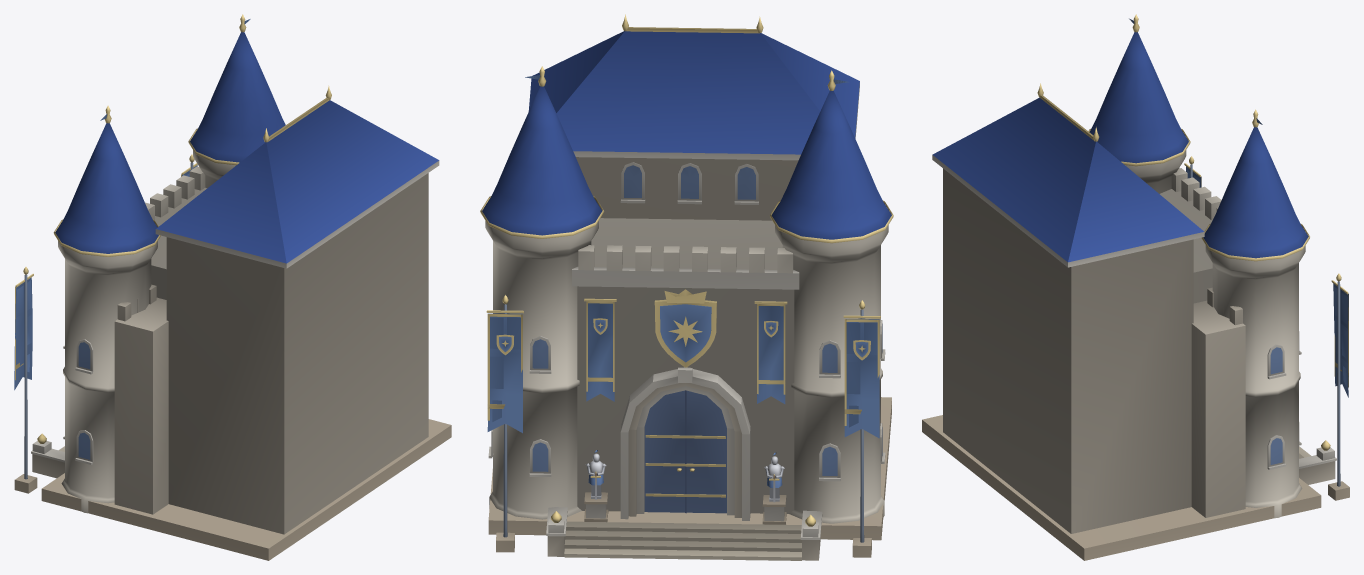
The model's file is knight_lite.glb.
The picture shows the model from 3 angles, left to right: view 1: azimuth 30°, elevation 25°; view 2: azimuth 150°, elevation 25°; view 3: azimuth 270°, elevation 25°; orthographic projection. The views are drawn at different scales.
Visible parts, largest first — view 1: Knight_stone, Knight_roof, Knight_props; view 2: Knight_stone, Knight_roof, Knight_props; view 3: Knight_stone, Knight_roof, Knight_props.
Boxes of the visible parts, left/top/right/bottom form: Knight_stone: left=14, top=150, right=451, bottom=560; Knight_roof: left=55, top=32, right=439, bottom=263; Knight_props: left=14, top=14, right=331, bottom=479; Knight_stone: left=485, top=82, right=891, bottom=560; Knight_roof: left=482, top=31, right=891, bottom=239; Knight_props: left=480, top=14, right=893, bottom=542; Knight_stone: left=922, top=150, right=1349, bottom=560; Knight_roof: left=932, top=32, right=1308, bottom=262; Knight_props: left=1037, top=14, right=1348, bottom=486.
Bounding box in the file's own units: 19.61 × 19 × 18.82.
